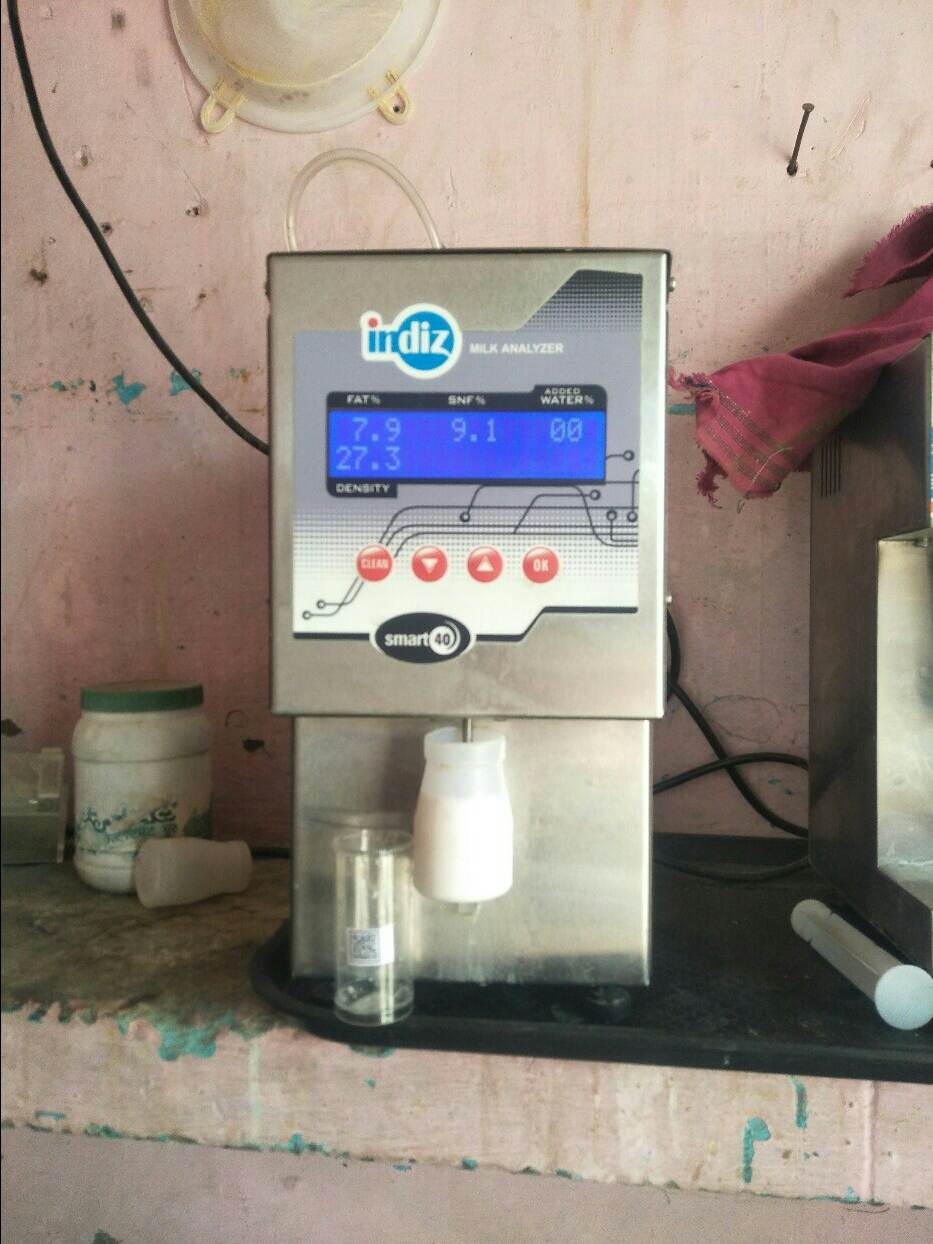lcd: (320, 397, 616, 495)
qr: (339, 920, 390, 971)
